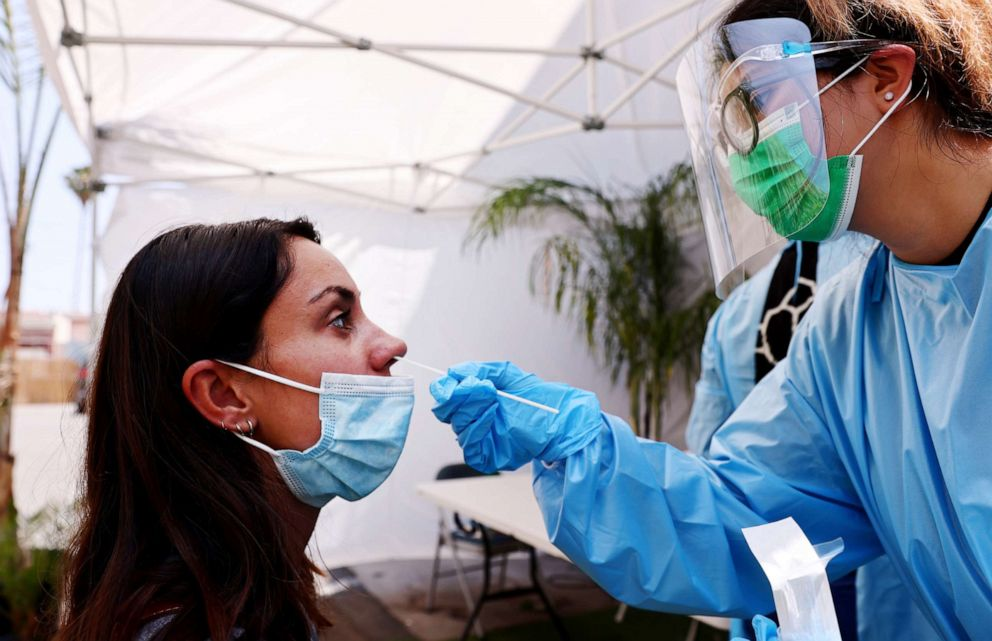with_incorrect_mask: (295, 273, 417, 453)
with_mask: (716, 72, 848, 222)
